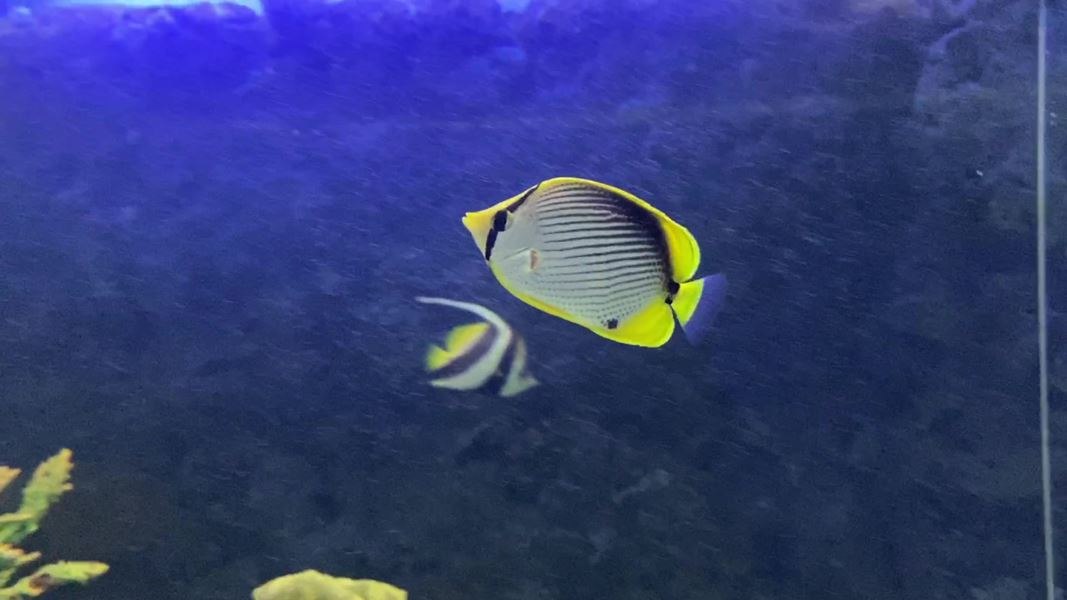Black-backed butterflyfish: (451, 166, 742, 361)
